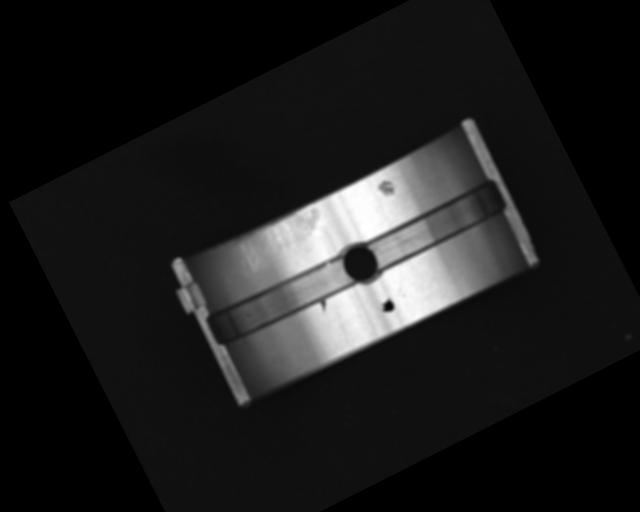blot: (377, 295, 397, 316)
bruise: (374, 176, 399, 202), (318, 297, 332, 313)
gap: (205, 247, 357, 351), (360, 175, 512, 277)
hole: (333, 235, 385, 291)
nick: (332, 311, 353, 344)
scratch: (228, 200, 330, 274)
